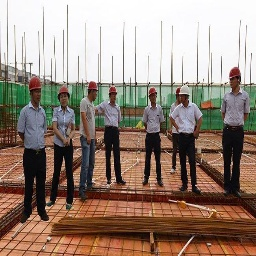helmet: (25, 75, 45, 95), (226, 67, 245, 81), (56, 87, 71, 100), (86, 81, 100, 93), (180, 86, 193, 97), (149, 87, 160, 99), (107, 87, 121, 95)
no-vest: (21, 103, 47, 153), (224, 92, 249, 138), (54, 107, 79, 151), (78, 99, 97, 139), (176, 105, 201, 133), (103, 103, 124, 134), (144, 104, 164, 134)
person: (19, 74, 48, 227), (220, 66, 251, 200), (175, 85, 204, 196), (78, 78, 98, 206), (54, 83, 73, 216), (102, 86, 124, 189), (145, 84, 165, 192)
